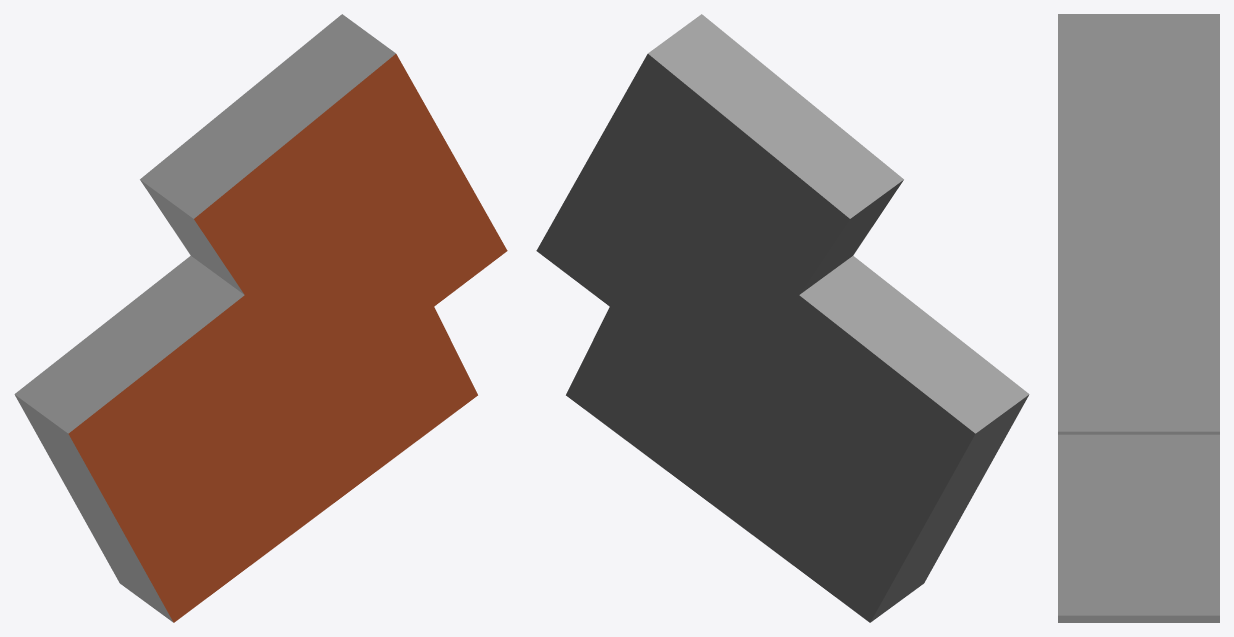
File: construction_6376_assumed_A_Casa_h6m.obj
The picture shows the model from 3 angles, left to right: view 1: azimuth 30°, elevation 25°; view 2: azimuth 150°, elevation 25°; view 3: azimuth 270°, elevation 25°; orthographic projection. The views are drawn at different scales.
Visible parts, largest first — view 1: construction_6376_assumed_A_Casa; view 2: construction_6376_assumed_A_Casa; view 3: construction_6376_assumed_A_Casa.
Boxes of the visible parts, x1,y1,x2,y2 form: construction_6376_assumed_A_Casa: [14, 14, 507, 622]; construction_6376_assumed_A_Casa: [536, 14, 1029, 622]; construction_6376_assumed_A_Casa: [1058, 14, 1219, 622].
Size of the model in its own units: 28.17 by 31.57 by 6.
